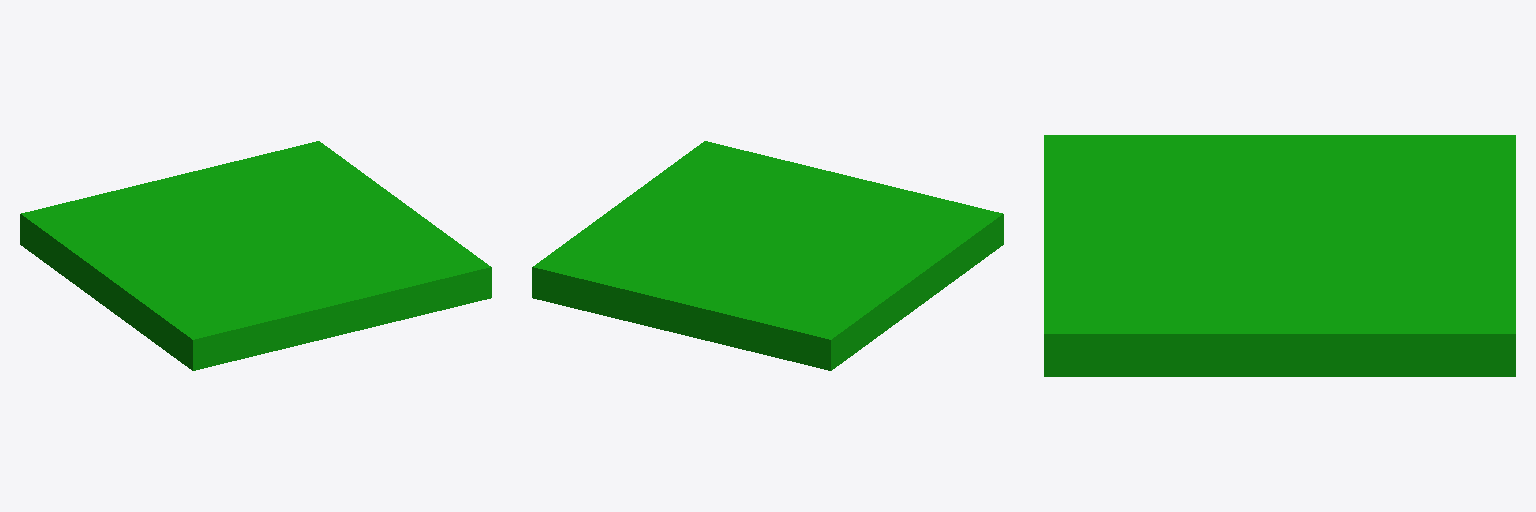
robot.urdf — plate:
<?xml version="0.0" ?>
<robot name="plate">
    <link name="plateLink">
        <contact>
            <lateral_friction value="100.0"/>
            <spinning_friction value=".001"/>
        </contact>
        <inertial>
            <origin rpy="0 0 0" xyz="0 0 0"/>
            <mass value="0.02"/>
            <inertia ixx="1" ixy="0" ixz="0" iyy="1" iyz="0" izz="1"/>
        </inertial>
        <visual>
            <origin rpy="0 0 0" xyz="0.0 0.0 0.0"/>
            <geometry>
                <box size="0.3 0.3 0.03"/>
            </geometry>
            <material name="pegmat0">
                <color rgba="0.1 0.7 0.1 1"/>
            </material>
        </visual>
        <collision>
            <origin rpy="0 0 0" xyz="0.0 0.0 0.0"/>
            <geometry>
                <box size="0.3 0.3 0.03"/>
            </geometry>
        </collision>
    </link>
</robot>

--- Render facts (derived) ---
The picture shows the robot from 3 angles, left to right: view 1: azimuth 30°, elevation 25°; view 2: azimuth 150°, elevation 25°; view 3: azimuth 270°, elevation 25°; orthographic projection.
Model plate with 1 links and 0 joints (none), rooted at plateLink, posed every joint at zero.
Visible links, largest first — view 1: plateLink; view 2: plateLink; view 3: plateLink.
Link boxes in pixels (bbox=[...]): plateLink: bbox=[20, 141, 491, 370]; plateLink: bbox=[532, 141, 1003, 370]; plateLink: bbox=[1044, 135, 1515, 376].
Size in the robot's own frame: 0.3 by 0.3 by 0.03 metres.
Geometry: primitives only (box / cylinder / sphere), no mesh files.